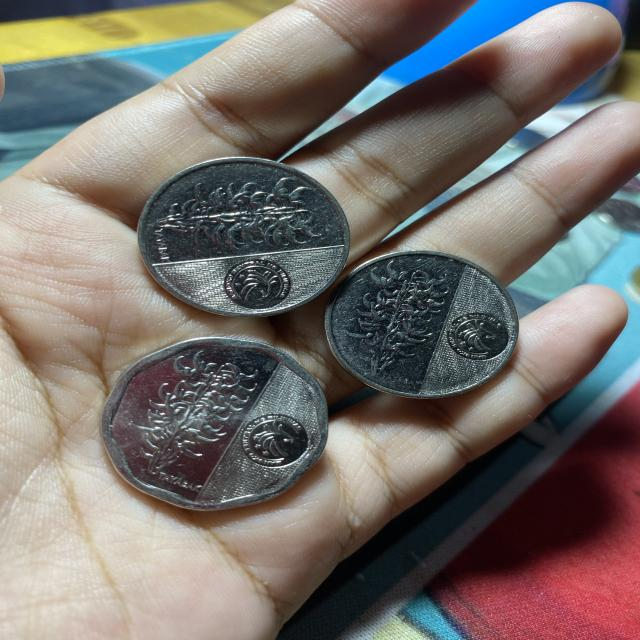5_New_Back: (128, 356, 242, 467), (347, 260, 447, 372), (165, 177, 320, 247)
